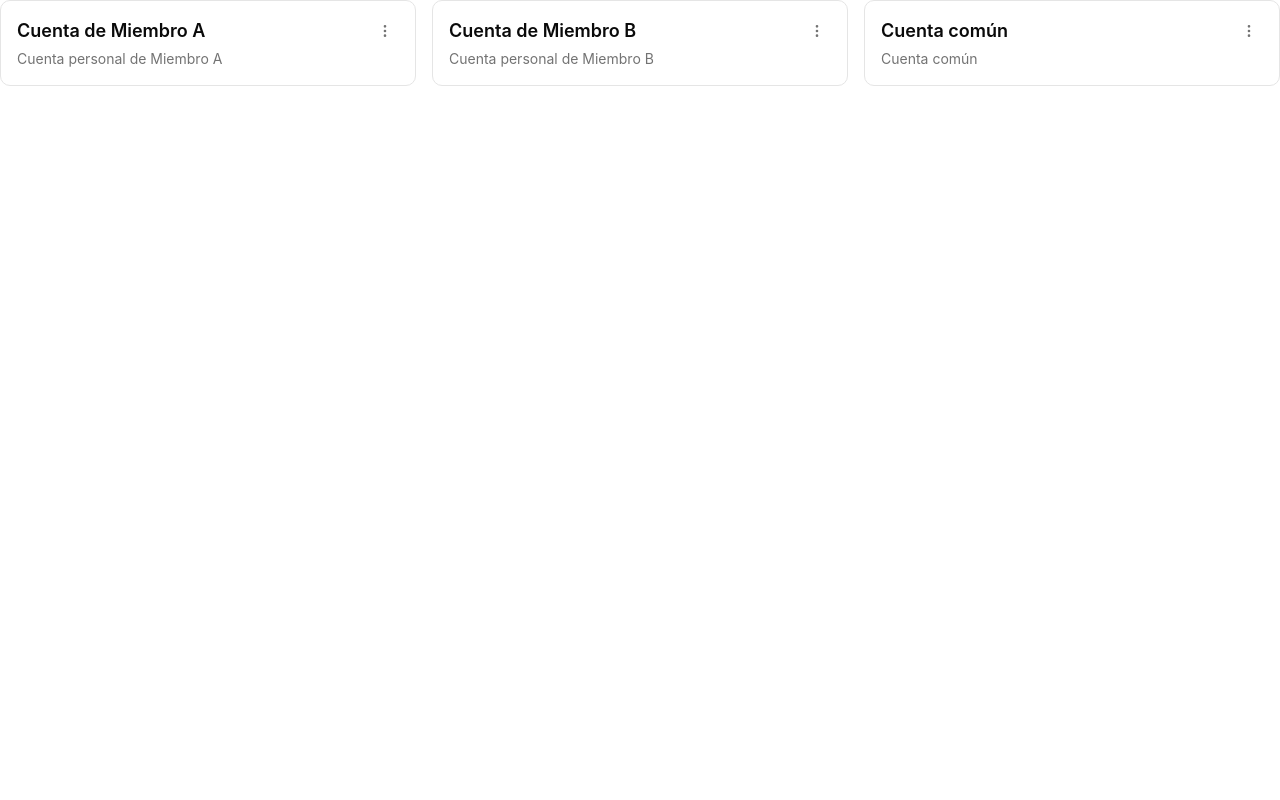
Test: AccountCardGrid › seleccionar el ítem cierra el menú y abre el diálogo «Ingreso regular»
Click the button named "Configuración de Cuenta de Miembro B". click: (817, 31)
box: [795,9,839,53]
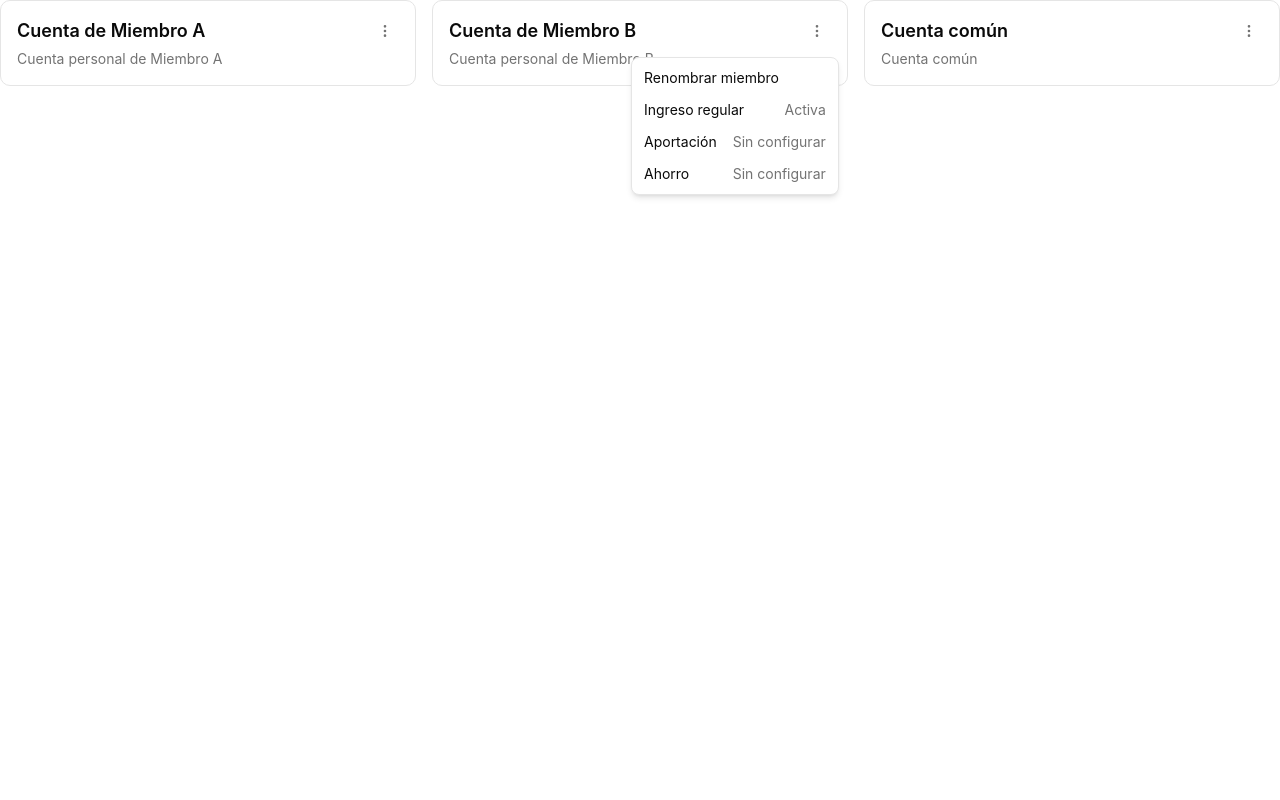
Click the menu item "Ingreso regular Activa". click: (735, 110)
box: [644,101,826,118]
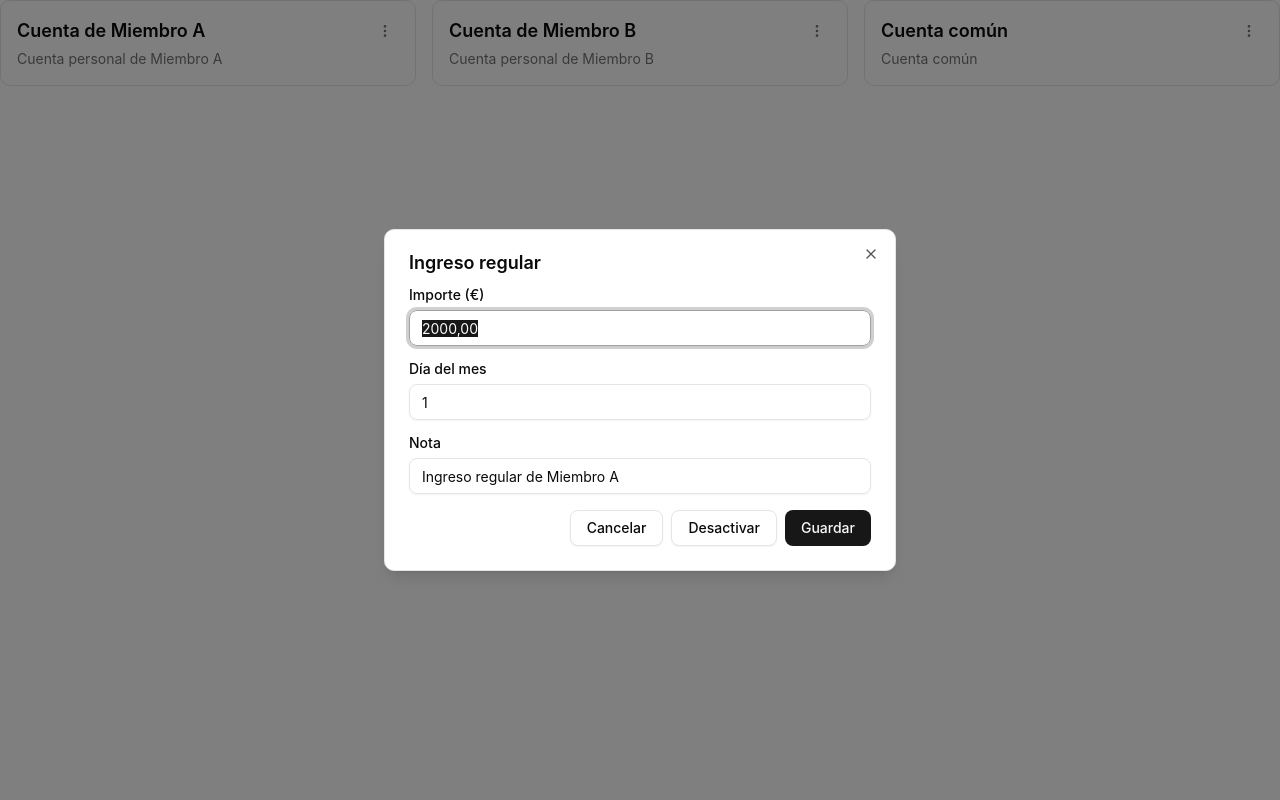
Check: the menu is gone
Check: the field labelled "Importe (€)" holds "2000,00", box [409,310,871,346]
Check: the button "Desactivar" is shown, box [672,510,777,546]
